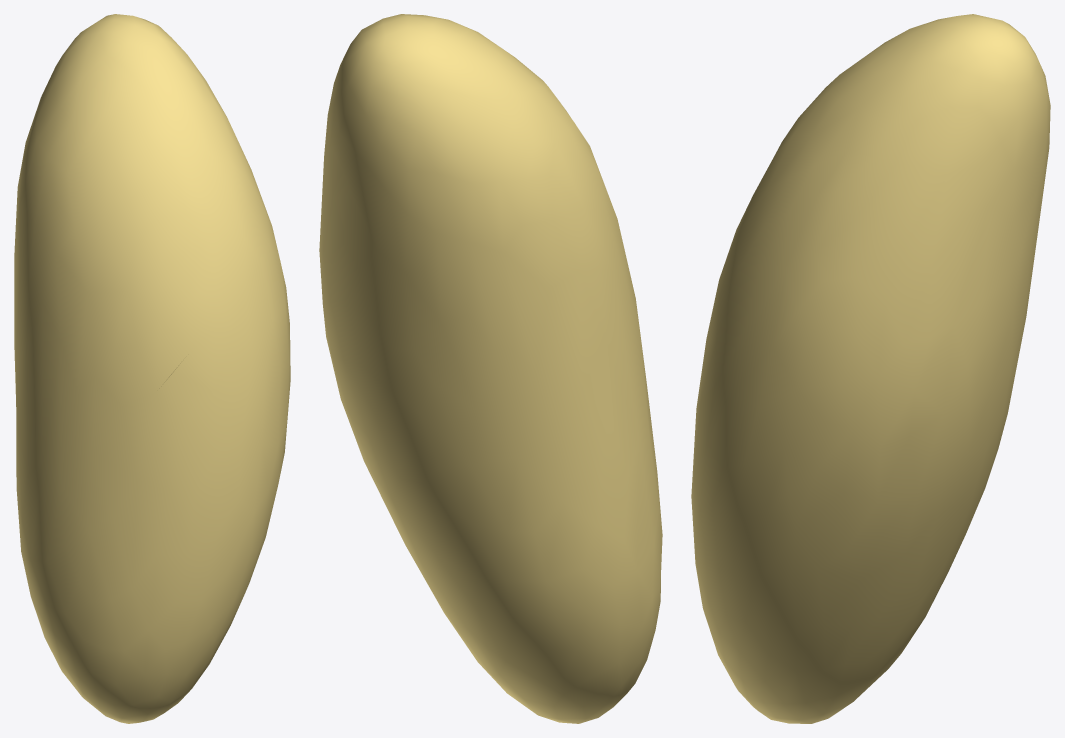
File: fma53555_mm2601m.glb
The picture shows the model from 3 angles, left to right: view 1: azimuth 30°, elevation 25°; view 2: azimuth 150°, elevation 25°; view 3: azimuth 270°, elevation 25°; orthographic projection. The views are drawn at different scales.
Parts seen in each view (by area): view 1: FMA53555_MM2601M; view 2: FMA53555_MM2601M; view 3: FMA53555_MM2601M.
Part boxes in pixels (x1,y1,x2,y2): FMA53555_MM2601M: [14, 14, 290, 723]; FMA53555_MM2601M: [319, 14, 662, 723]; FMA53555_MM2601M: [691, 14, 1050, 723].
Size of the model in its own units: 0.00366 by 0.00895 by 0.00396.
